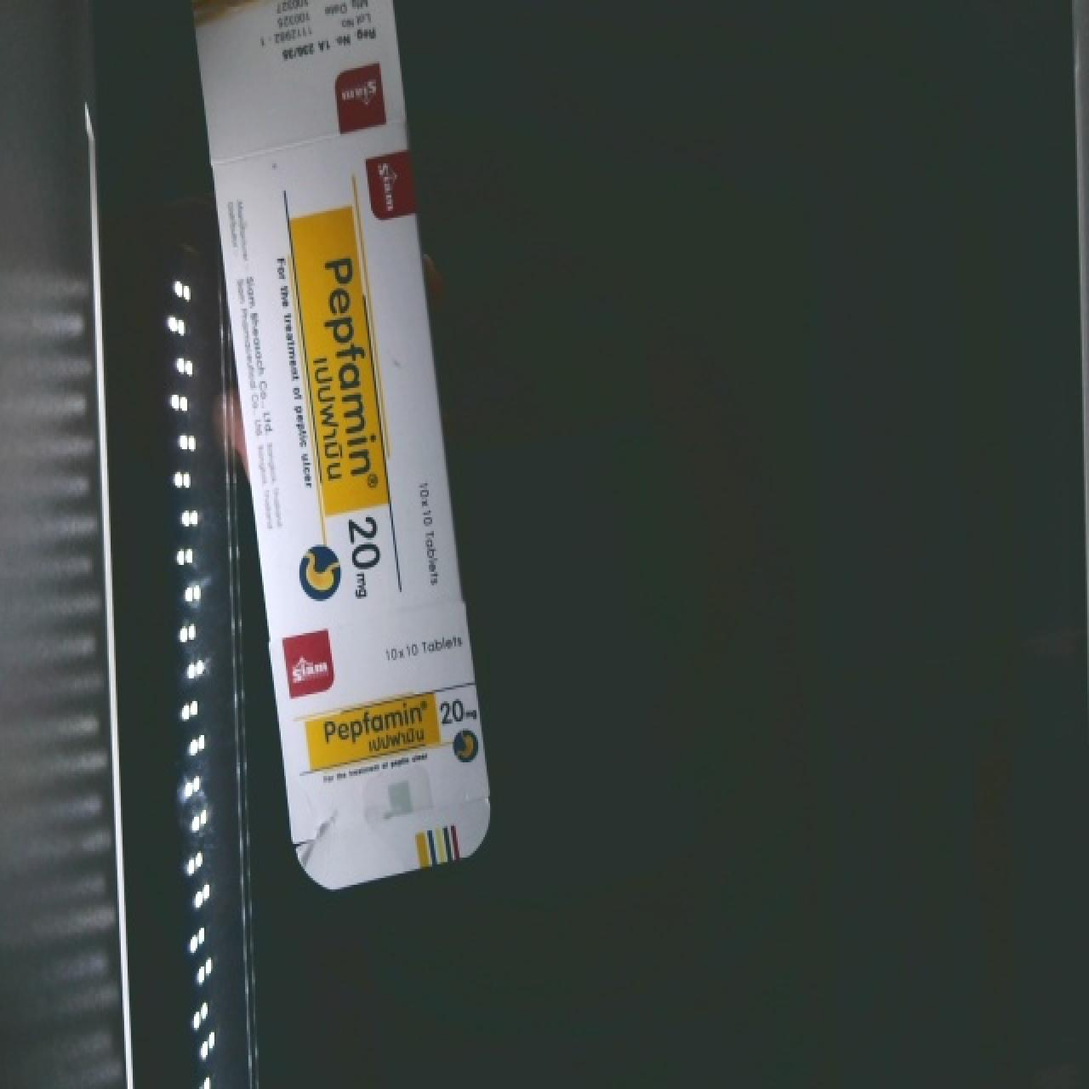medicine_label_obb: (288, 217, 391, 511)
